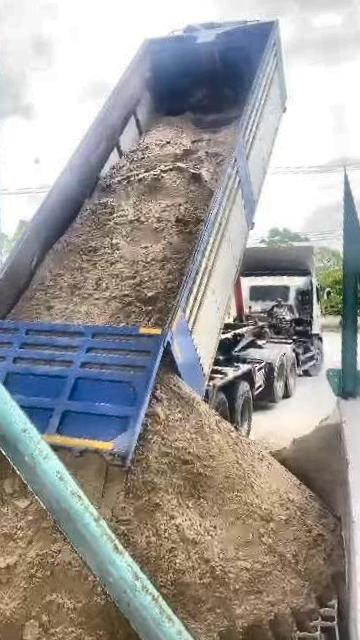sand: (62, 369, 344, 640), (10, 116, 234, 326), (0, 440, 150, 640)
